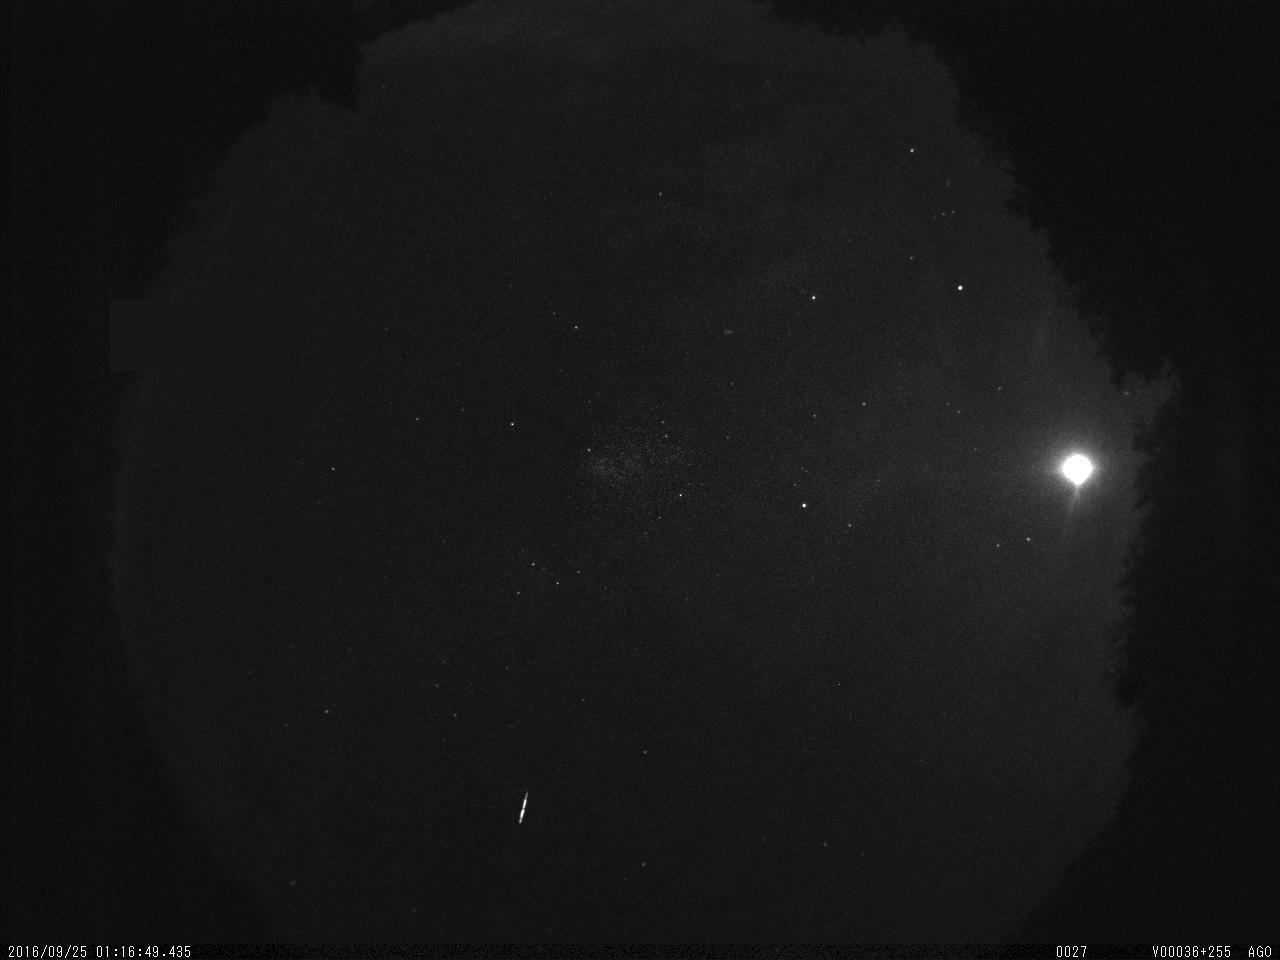Meteor: (515, 787, 528, 822)
